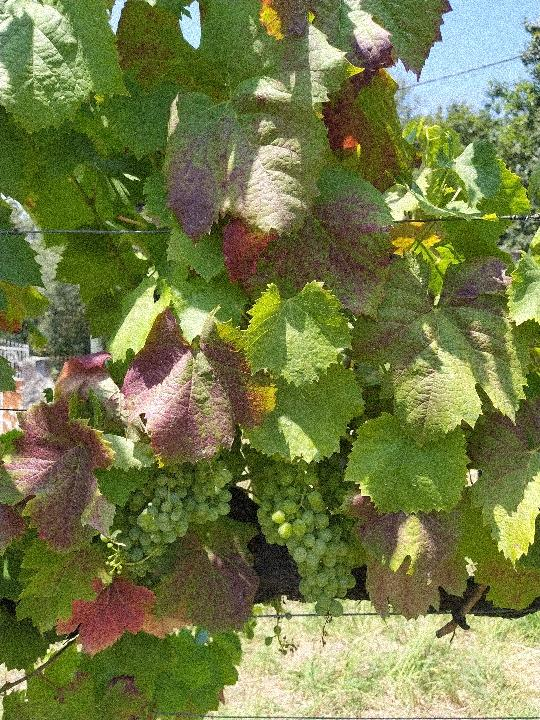grape: (249, 448, 376, 651), (119, 457, 234, 587)
